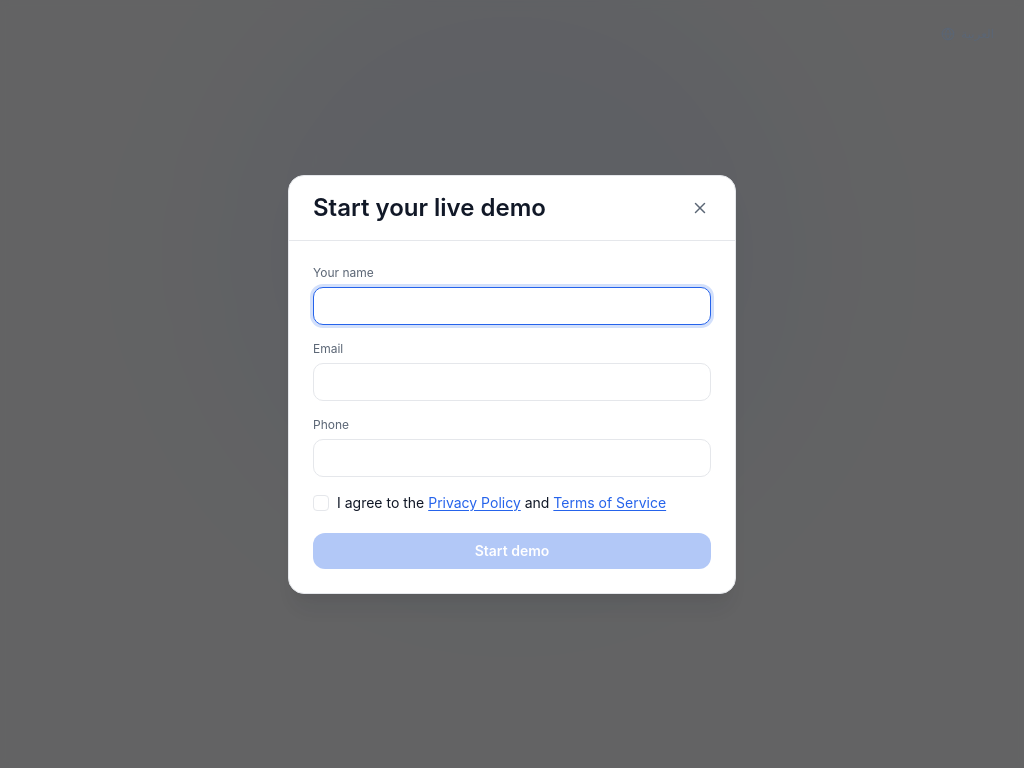
it: DemoLanding — /demo › consent gating: submit stays disabled until the checkbox is checked
Type "Nadia" into the field labelled "Your name" at {"x": 512, "y": 306}, box [313, 286, 711, 324]
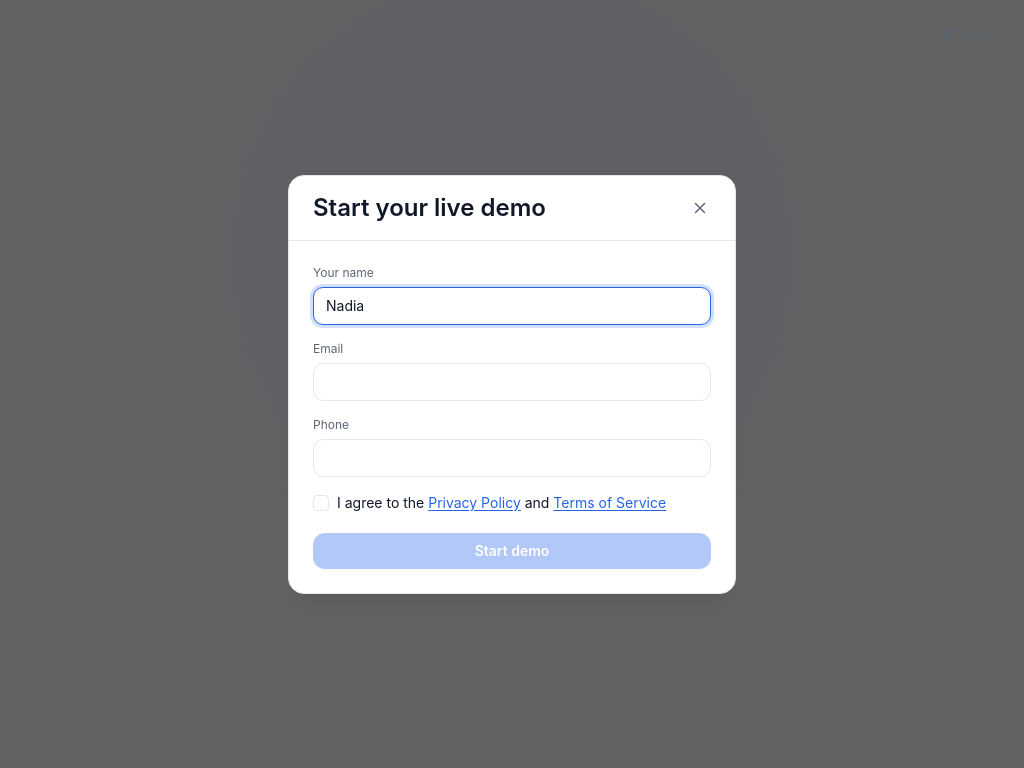
Type "nadia@example.com" into the field labelled "Email" at {"x": 512, "y": 382}, box [313, 362, 711, 400]
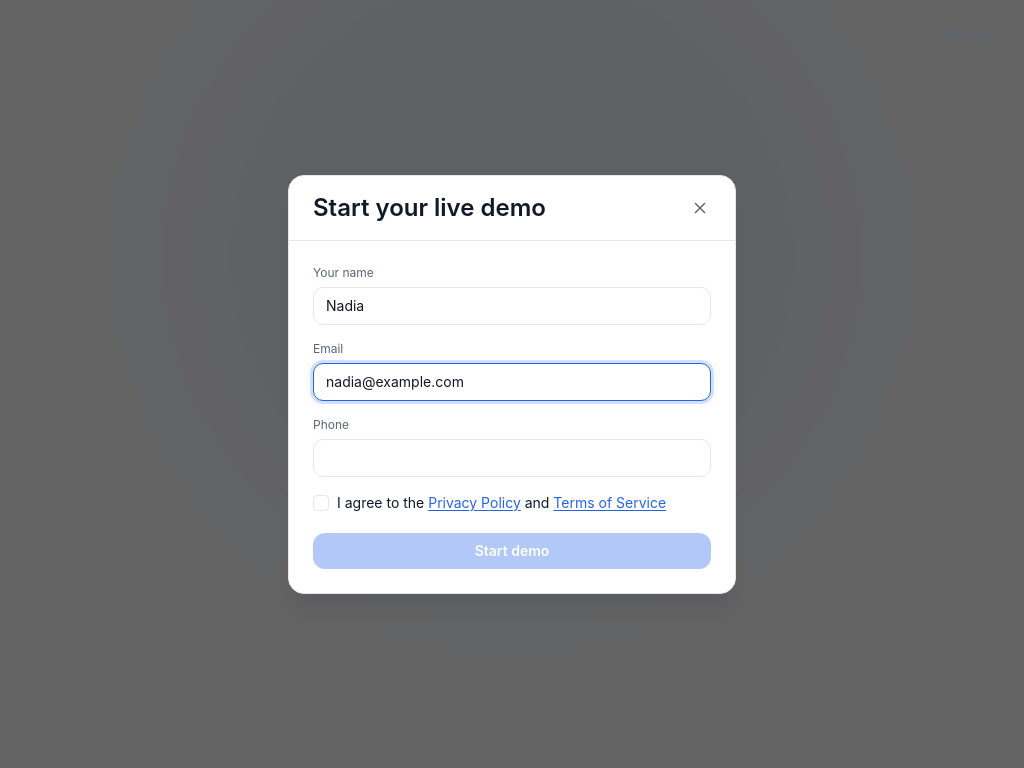
Type "01012345678" into the field labelled "Phone" at {"x": 512, "y": 458}, box [313, 438, 711, 476]
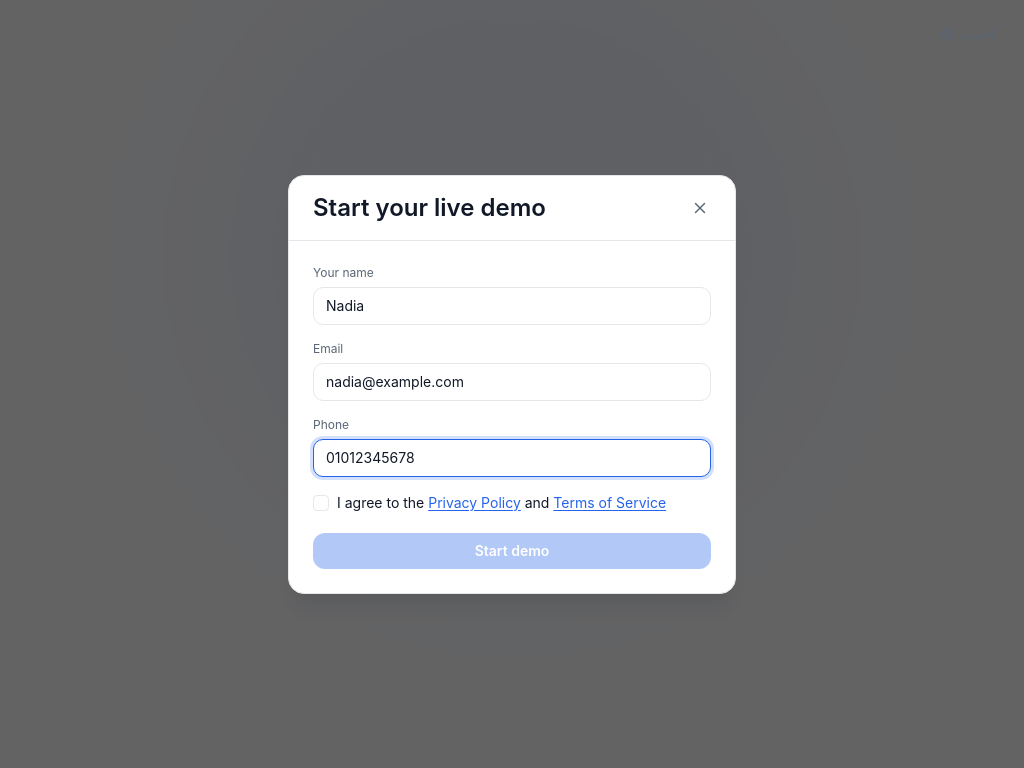
Expected: the button "Start demo" is disabled, [313, 532, 711, 568]
Click the checkbox at {"x": 490, "y": 502}, box [313, 492, 666, 512]
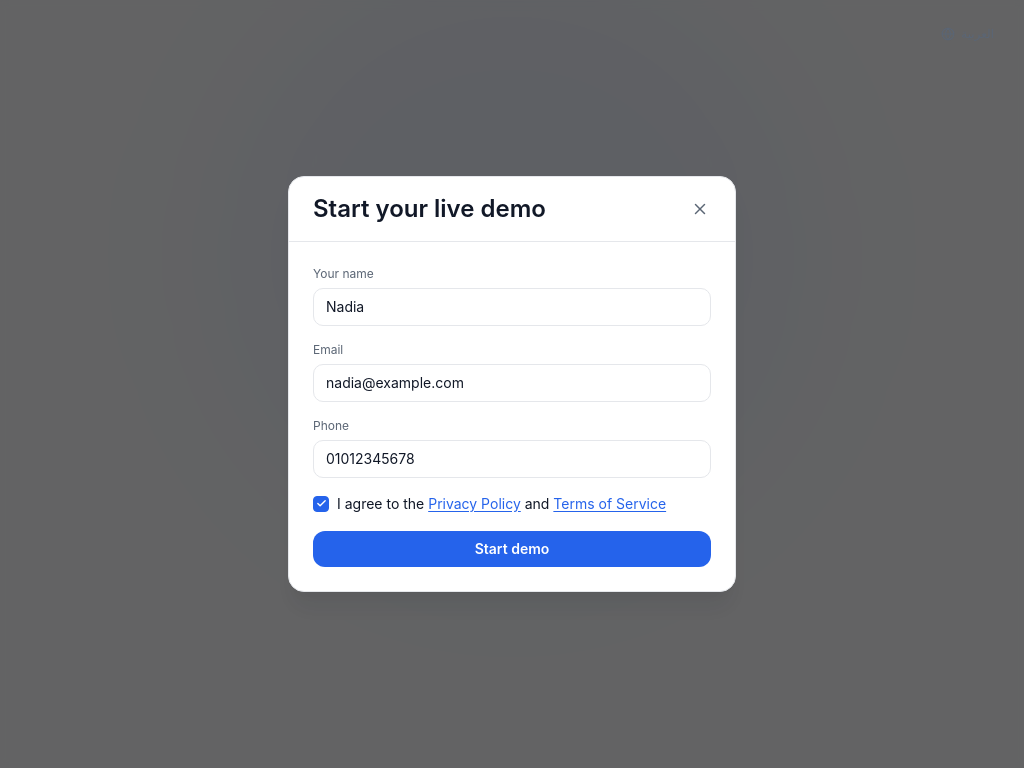
Now the button "Start demo" is enabled, box [313, 531, 711, 567]
